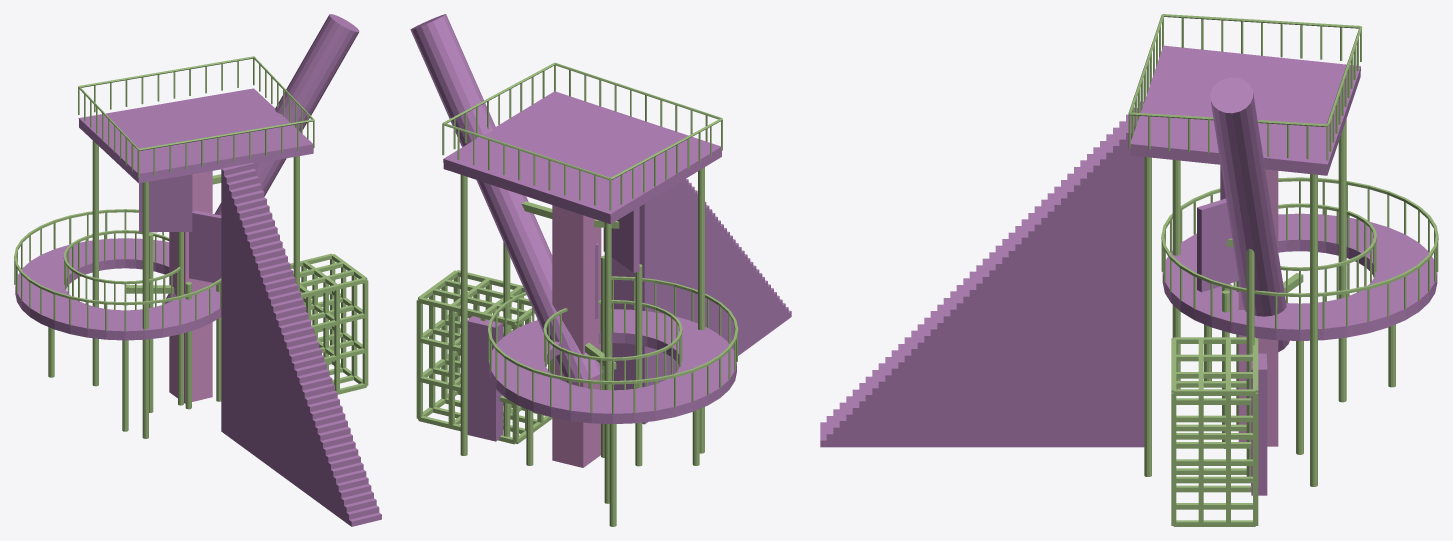
File: folie_tag_092.glb
3 views of the same model, side by side, from view 1: azimuth 30°, elevation 25°; view 2: azimuth 150°, elevation 25°; view 3: azimuth 270°, elevation 25° (orthographic). The views are drawn at different scales.
Parts seen in each view (by area): view 1: folie_tag_092_stairs, folie_tag_092_line, folie_tag_092_01_plate, folie_tag_092_00_ring, folie_tag_092_03_cage, folie_tag_092_02_tube, folie_tag_092_core, folie_tag_092_05_panel, folie_tag_092_06_panel; view 2: folie_tag_092_line, folie_tag_092_01_plate, folie_tag_092_stairs, folie_tag_092_00_ring, folie_tag_092_02_tube, folie_tag_092_03_cage, folie_tag_092_core, folie_tag_092_04_fin, folie_tag_092_05_panel; view 3: folie_tag_092_stairs, folie_tag_092_line, folie_tag_092_01_plate, folie_tag_092_00_ring, folie_tag_092_03_cage, folie_tag_092_02_tube, folie_tag_092_06_panel, folie_tag_092_core, folie_tag_092_04_fin.
Part boxes in pixels (x1,y1,x2,y2): folie_tag_092_stairs: (221, 163, 381, 526); folie_tag_092_line: (14, 56, 314, 438); folie_tag_092_01_plate: (78, 88, 313, 183); folie_tag_092_00_ring: (15, 238, 221, 340); folie_tag_092_03_cage: (290, 253, 368, 394); folie_tag_092_02_tube: (165, 14, 359, 303); folie_tag_092_core: (169, 171, 212, 403); folie_tag_092_05_panel: (139, 174, 192, 232); folie_tag_092_06_panel: (189, 210, 221, 283); folie_tag_092_line: (442, 62, 738, 526); folie_tag_092_01_plate: (443, 91, 721, 224); folie_tag_092_stairs: (611, 179, 791, 424); folie_tag_092_00_ring: (489, 309, 736, 424); folie_tag_092_02_tube: (410, 14, 602, 384); folie_tag_092_03_cage: (416, 270, 552, 444); folie_tag_092_core: (552, 205, 601, 467); folie_tag_092_04_fin: (467, 316, 502, 441); folie_tag_092_05_panel: (603, 207, 639, 272); folie_tag_092_stairs: (820, 101, 1144, 447); folie_tag_092_line: (1128, 14, 1438, 486); folie_tag_092_01_plate: (1129, 45, 1360, 175); folie_tag_092_00_ring: (1162, 213, 1437, 340); folie_tag_092_03_cage: (1171, 337, 1258, 526); folie_tag_092_02_tube: (1210, 77, 1289, 351); folie_tag_092_06_panel: (1197, 198, 1238, 292); folie_tag_092_core: (1238, 169, 1278, 446); folie_tag_092_04_fin: (1251, 353, 1267, 495).
Bounding box in the file's own units: 11.99 × 13.5 × 17.12.
